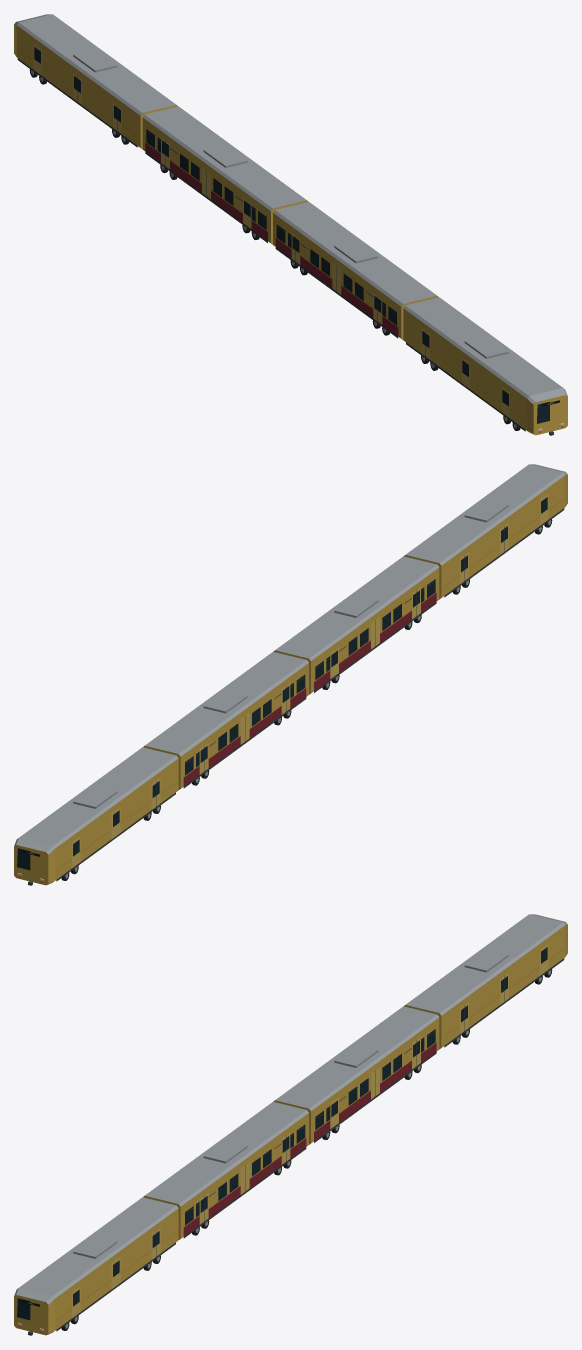
The model's file is sbahn-481.glb.
The picture shows the model from 3 angles, top to bottom: view 1: azimuth 30°, elevation 25°; view 2: azimuth 150°, elevation 25°; view 3: azimuth 330°, elevation 25°; orthographic projection.
Visible parts, largest first — view 1: sbahn-481.segment-01.005, sbahn-481.segment-03.005, sbahn-481.segment-02.005, sbahn-481.segment-04.005; view 2: sbahn-481.segment-04.005, sbahn-481.segment-02.005, sbahn-481.segment-03.005, sbahn-481.segment-01.005; view 3: sbahn-481.segment-01.005, sbahn-481.segment-03.005, sbahn-481.segment-02.005, sbahn-481.segment-04.005.
Part boxes in pixels (x1,y1,x2,y2): sbahn-481.segment-01.005: (403, 297, 567, 435); sbahn-481.segment-03.005: (142, 106, 308, 244); sbahn-481.segment-02.005: (273, 202, 438, 339); sbahn-481.segment-04.005: (14, 14, 177, 149); sbahn-481.segment-04.005: (14, 747, 178, 885); sbahn-481.segment-02.005: (273, 556, 439, 694); sbahn-481.segment-03.005: (143, 652, 308, 789); sbahn-481.segment-01.005: (404, 464, 567, 599); sbahn-481.segment-01.005: (14, 1197, 178, 1335); sbahn-481.segment-03.005: (273, 1006, 439, 1144); sbahn-481.segment-02.005: (143, 1102, 308, 1239); sbahn-481.segment-04.005: (404, 914, 567, 1049).
Bounding box in the file's own units: 3.17 × 3.65 × 74.04.
